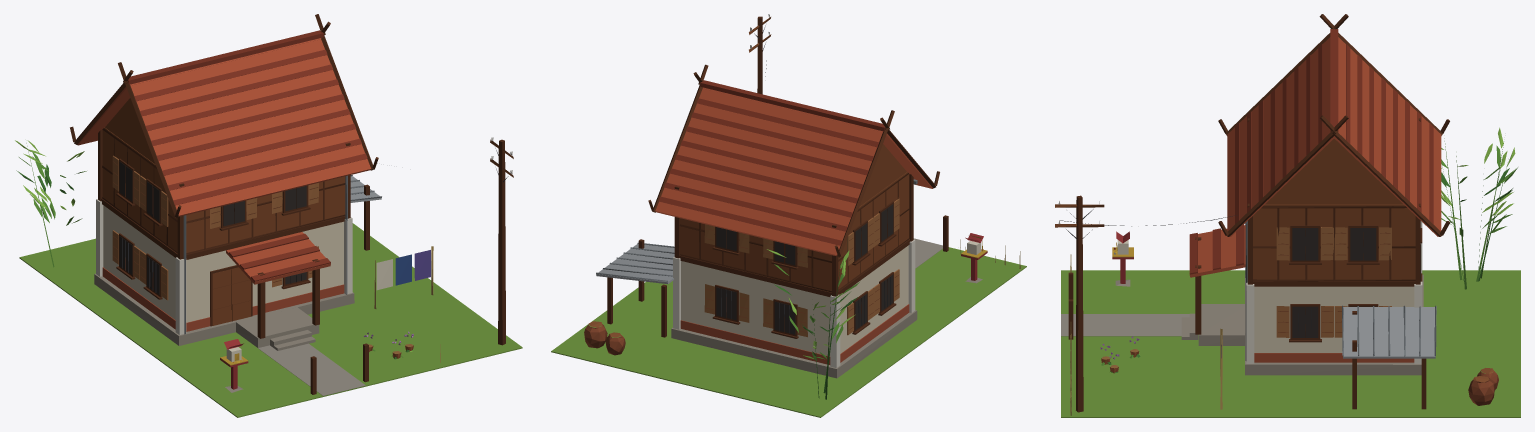
File: house12_1.glb
3 renders of one model, left to right at view 1: azimuth 30°, elevation 25°; view 2: azimuth 150°, elevation 25°; view 3: azimuth 270°, elevation 25°, orthographic. The views are drawn at different scales.
Parts seen in each view (by area): view 1: body, windows; view 2: body, windows; view 3: body, windows.
Boxes of the visible parts, left/top/right/bottom form: body: left=15, top=14, right=522, bottom=417; windows: left=119, top=161, right=306, bottom=294; body: left=551, top=14, right=1026, bottom=417; windows: left=716, top=204, right=893, bottom=334; body: left=1055, top=14, right=1520, bottom=417; windows: left=1292, top=228, right=1376, bottom=337.
Bounding box in the file's own units: 12.64 × 10.41 × 16.1.
